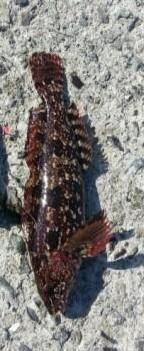fish: (21, 52, 112, 319)
